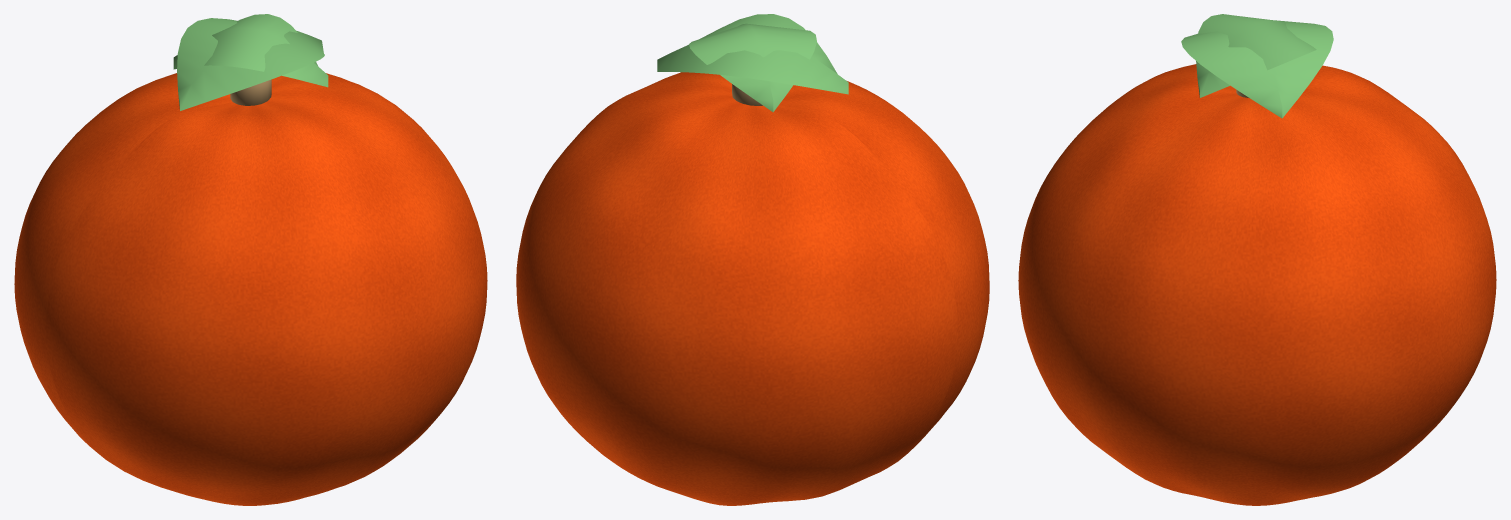
File: orange.glb
3 renders of one model, left to right at view 1: azimuth 30°, elevation 25°; view 2: azimuth 150°, elevation 25°; view 3: azimuth 270°, elevation 25°, orthographic.
Visible parts, largest first — view 1: Orange; view 2: Orange; view 3: Orange.
Part boxes in pixels (x1=…): Orange: x1=14, y1=14, x2=487, y2=505; Orange: x1=516, y1=14, x2=989, y2=505; Orange: x1=1018, y1=14, x2=1496, y2=505.
Size of the model in its own units: 1.24 by 1.29 by 1.24.
Materials: 4 (1 with a texture image).
